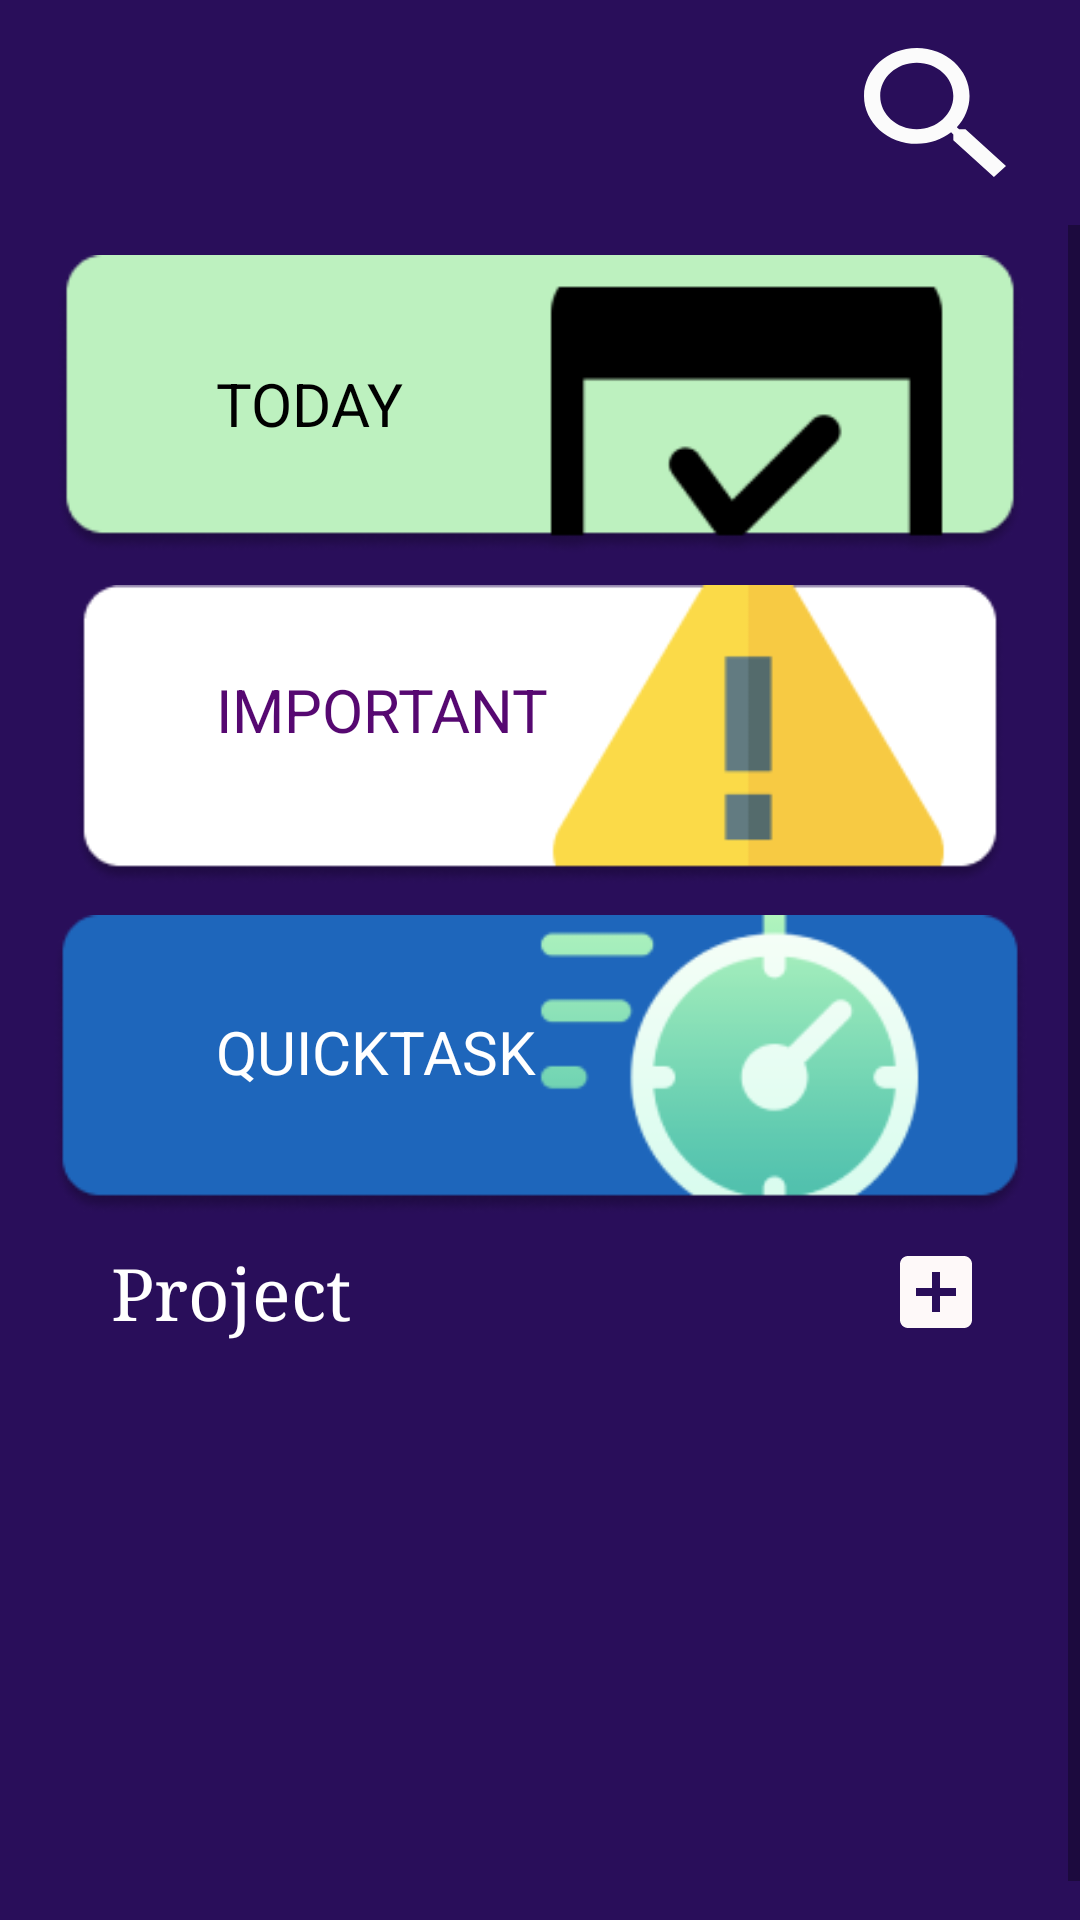

Named icons in this screenshot (1080×1920) and their centers, point (x, y):
add: point (936, 1292)
search: point (935, 112)
